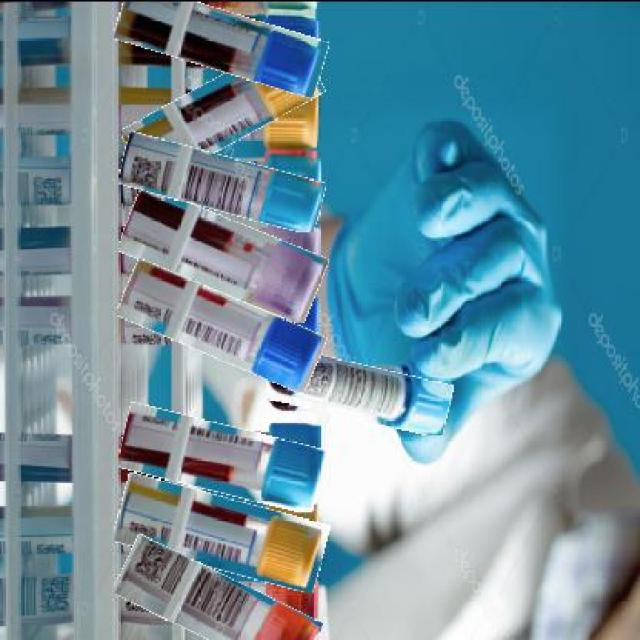Experimental-tube: (121, 56, 324, 166), (119, 201, 326, 307), (114, 483, 328, 580), (117, 275, 325, 374), (120, 412, 326, 501), (112, 552, 322, 638), (114, 2, 329, 83), (118, 142, 324, 220), (266, 353, 452, 427)
